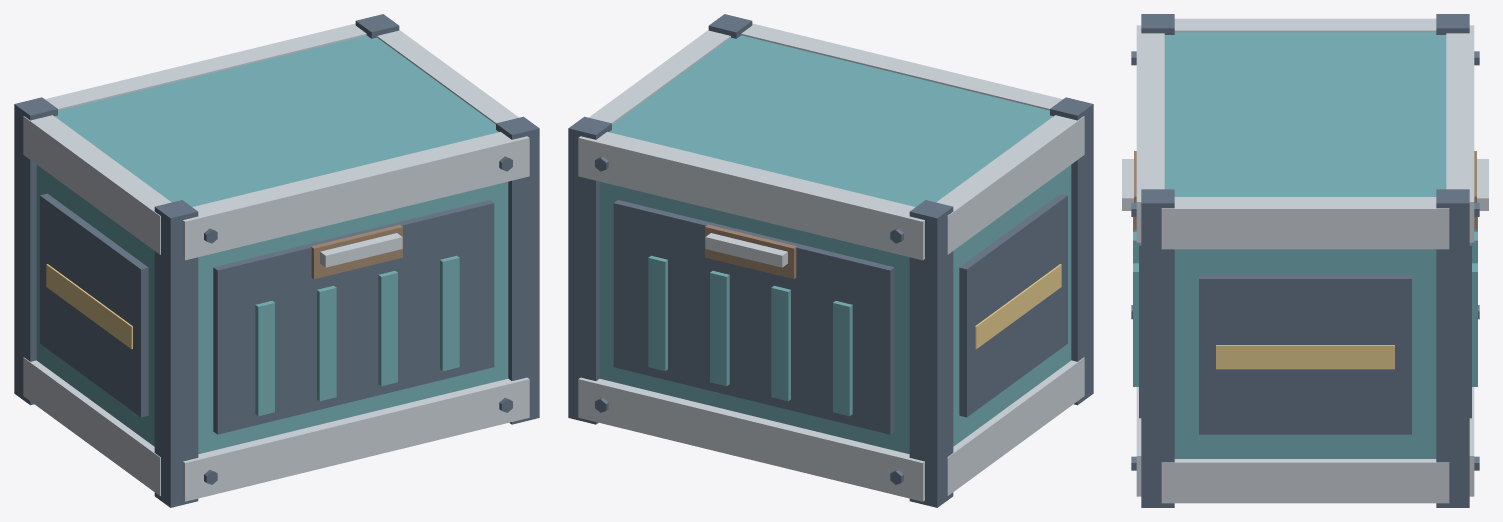
Rendered from metal_crate.glb.
The picture shows the model from 3 angles, left to right: view 1: azimuth 30°, elevation 25°; view 2: azimuth 150°, elevation 25°; view 3: azimuth 270°, elevation 25°; orthographic projection. The views are drawn at different scales.
Visible parts, largest first — view 1: equipment_shell, equipment_recessed_panel, equipment_horizontal_rail.002, equipment_horizontal_rail, equipment_side_panel, equipment_corner, equipment_side_rail.002, equipment_corner.002, equipment_side_rail, equipment_corner.001, equipment_horizontal_rail.003, equipment_side_rail.003 (+8 smaller); view 2: equipment_shell, equipment_recessed_panel.001, equipment_horizontal_rail.003, equipment_horizontal_rail.001, equipment_side_panel, equipment_corner.001, equipment_side_rail.002, equipment_corner.003, equipment_side_rail, equipment_corner, equipment_horizontal_rail.002, equipment_side_rail.003 (+8 smaller); view 3: equipment_shell, equipment_side_panel.001, equipment_side_rail.003, equipment_side_rail.001, equipment_corner.002, equipment_corner.003, equipment_horizontal_rail.002, equipment_horizontal_rail.003, equipment_side_accent.001, equipment_side_rail.002, equipment_panel_rib.003, equipment_panel_rib.007 (+8 smaller).
Boxes of the visible parts, left/top/right/bottom form: equipment_shell: left=36, top=35, right=508, bottom=454; equipment_recessed_panel: left=213, top=200, right=494, bottom=434; equipment_horizontal_rail.002: left=183, top=132, right=529, bottom=260; equipment_horizontal_rail: left=183, top=377, right=529, bottom=501; equipment_side_panel: left=40, top=193, right=148, bottom=417; equipment_corner: left=154, top=200, right=198, bottom=507; equipment_side_rail.002: left=23, top=115, right=171, bottom=254; equipment_corner.002: left=496, top=116, right=539, bottom=424; equipment_side_rail: left=23, top=357, right=160, bottom=495; equipment_corner.001: left=14, top=97, right=57, bottom=405; equipment_horizontal_rail.003: left=45, top=23, right=366, bottom=110; equipment_side_rail.003: left=377, top=30, right=518, bottom=124; equipment_shell: left=599, top=35, right=1071, bottom=454; equipment_recessed_panel.001: left=613, top=200, right=894, bottom=434; equipment_horizontal_rail.003: left=578, top=132, right=924, bottom=260; equipment_horizontal_rail.001: left=578, top=377, right=924, bottom=501; equipment_side_panel: left=959, top=193, right=1067, bottom=417; equipment_corner.001: left=909, top=200, right=953, bottom=507; equipment_side_rail.002: left=936, top=115, right=1084, bottom=254; equipment_corner.003: left=568, top=116, right=611, bottom=424; equipment_side_rail: left=947, top=357, right=1084, bottom=495; equipment_corner: left=1050, top=97, right=1093, bottom=405; equipment_horizontal_rail.002: left=741, top=23, right=1062, bottom=110; equipment_side_rail.003: left=589, top=30, right=730, bottom=124; equipment_shell: left=1164, top=32, right=1446, bottom=458; equipment_side_panel.001: left=1199, top=275, right=1411, bottom=434; equipment_side_rail.003: left=1161, top=197, right=1449, bottom=249; equipment_side_rail.001: left=1161, top=459, right=1449, bottom=503; equipment_corner.002: left=1141, top=189, right=1174, bottom=507; equipment_corner.003: left=1436, top=189, right=1469, bottom=507; equipment_horizontal_rail.002: left=1136, top=25, right=1164, bottom=242; equipment_horizontal_rail.003: left=1446, top=25, right=1474, bottom=242; equipment_side_accent.001: left=1216, top=345, right=1394, bottom=369; equipment_side_rail.002: left=1174, top=18, right=1436, bottom=32; equipment_panel_rib.003: left=1133, top=263, right=1138, bottom=386; equipment_panel_rib.007: left=1472, top=263, right=1477, bottom=386.
Size of the model in its own units: 1.22 by 0.9 by 0.9819.
